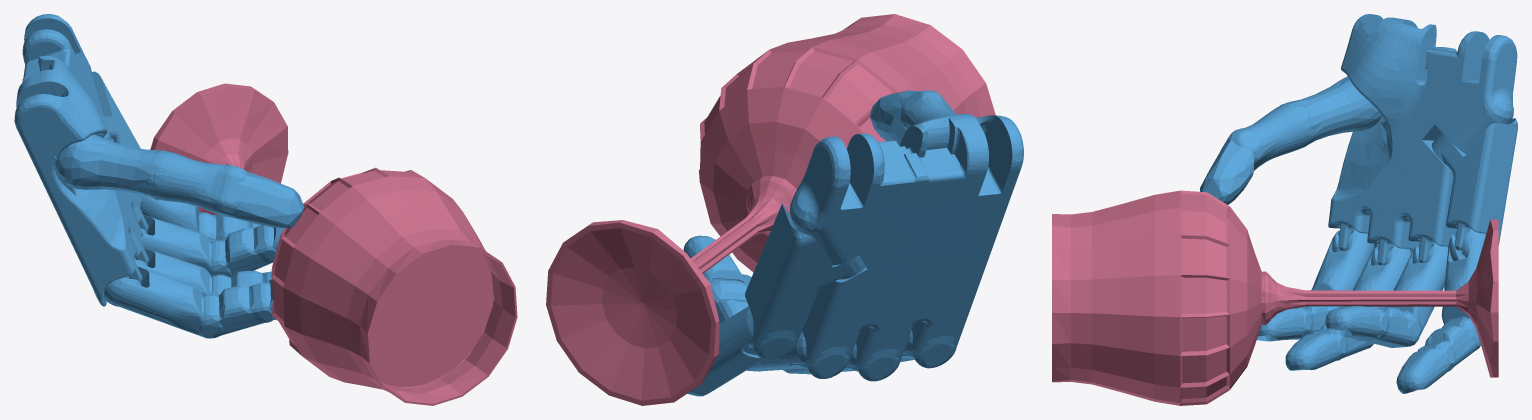
3 renders of one model, left to right at view 1: azimuth 30°, elevation 25°; view 2: azimuth 150°, elevation 25°; view 3: azimuth 270°, elevation 25°, orthographic. The views are drawn at different scales.
Parts seen in each view (by area): view 1: 4; view 2: 4; view 3: 4.
Part boxes in pixels (x1,y1,x2,y2): 4: (14, 14, 517, 405); 4: (546, 14, 1023, 405); 4: (1052, 14, 1517, 405).
Size of the model in its own units: 0.1831 by 0.1394 by 0.2119.
